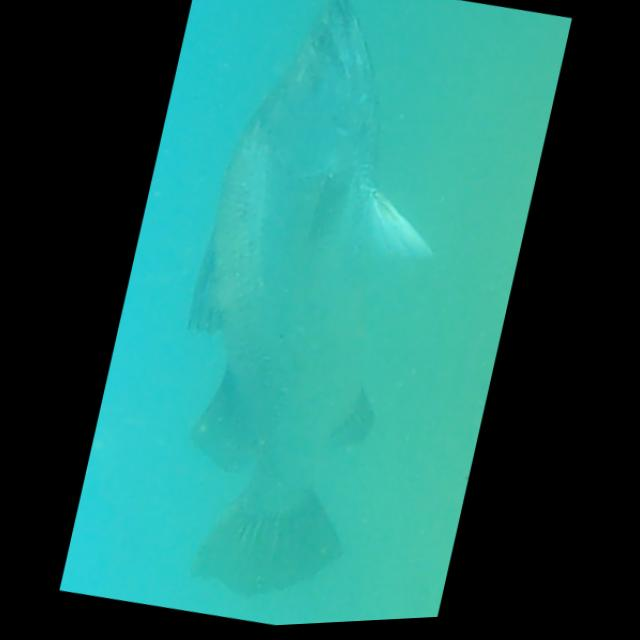Seabass: (125, 0, 490, 622)
